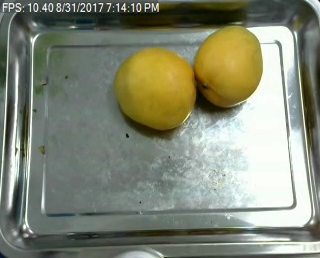Mango: (115, 46, 197, 129), (191, 24, 263, 110)
